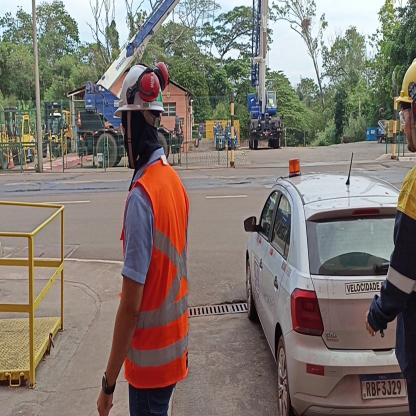Balaclava: (122, 115, 160, 164)
Capacete: (116, 65, 165, 108)
colete: (120, 179, 192, 382)
